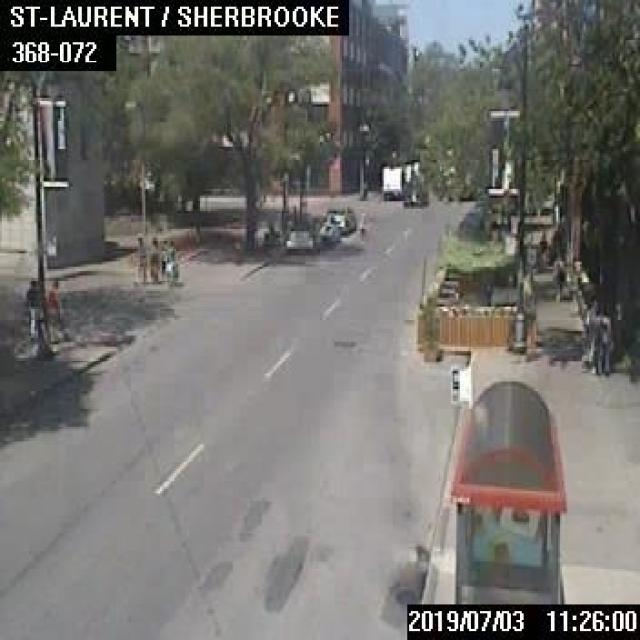pedestrian: (581, 297, 598, 372), (595, 302, 611, 373), (42, 289, 59, 349), (24, 276, 39, 336), (549, 250, 566, 300), (165, 238, 177, 284), (147, 235, 158, 281), (134, 234, 144, 282), (160, 237, 166, 278)
vehicle: (284, 217, 317, 251), (323, 205, 355, 232), (380, 164, 406, 196), (402, 182, 426, 205), (316, 220, 338, 243), (399, 161, 410, 187), (408, 159, 418, 174)
